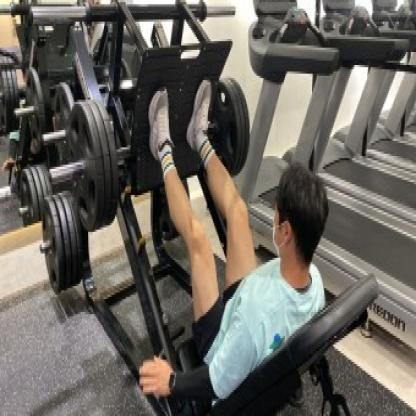leg press: (30, 0, 382, 416)
